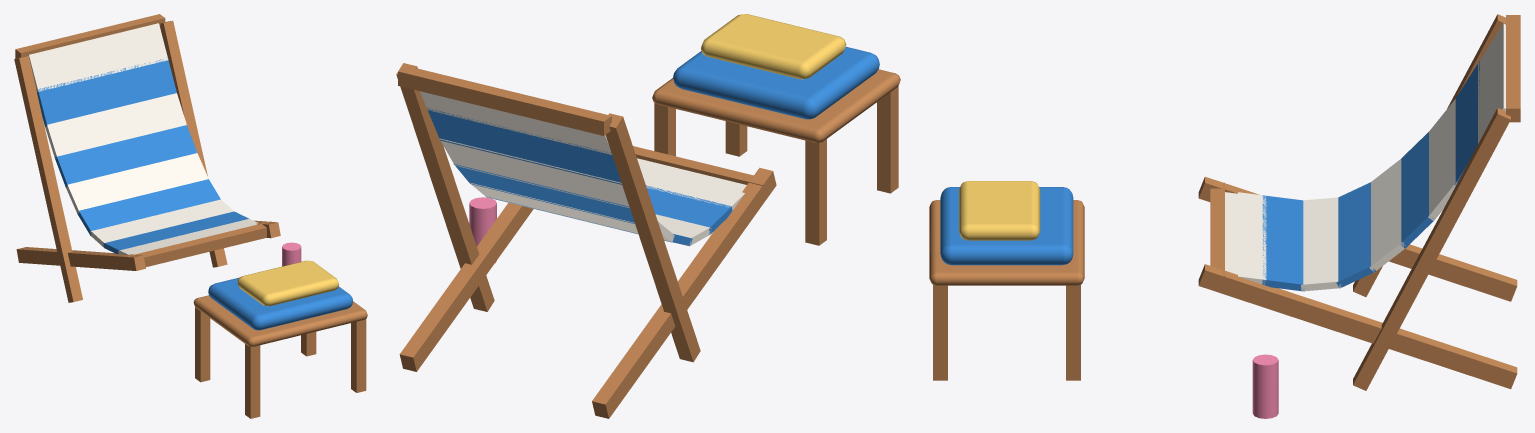
File: lounger-deckchair.glb
3 views of the same model, side by side, from view 1: azimuth 30°, elevation 25°; view 2: azimuth 150°, elevation 25°; view 3: azimuth 270°, elevation 25° (orthographic). The views are drawn at different scales.
Bounding box in the file's own units: 0.805 × 0.84 × 1.6.
